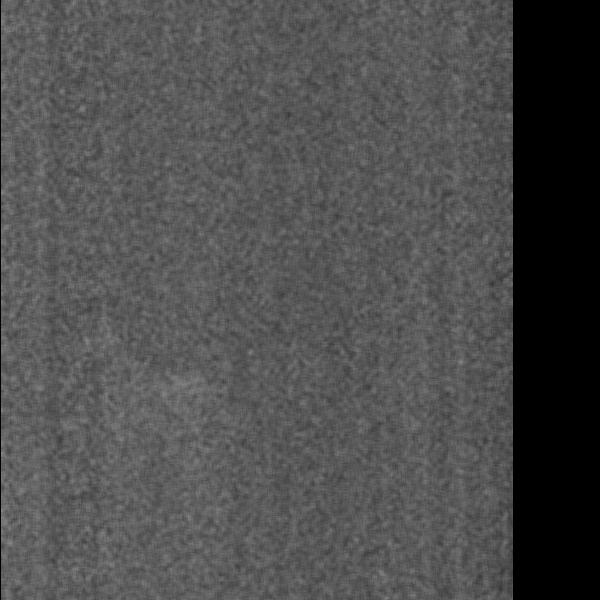spark: (155, 377, 176, 409)
